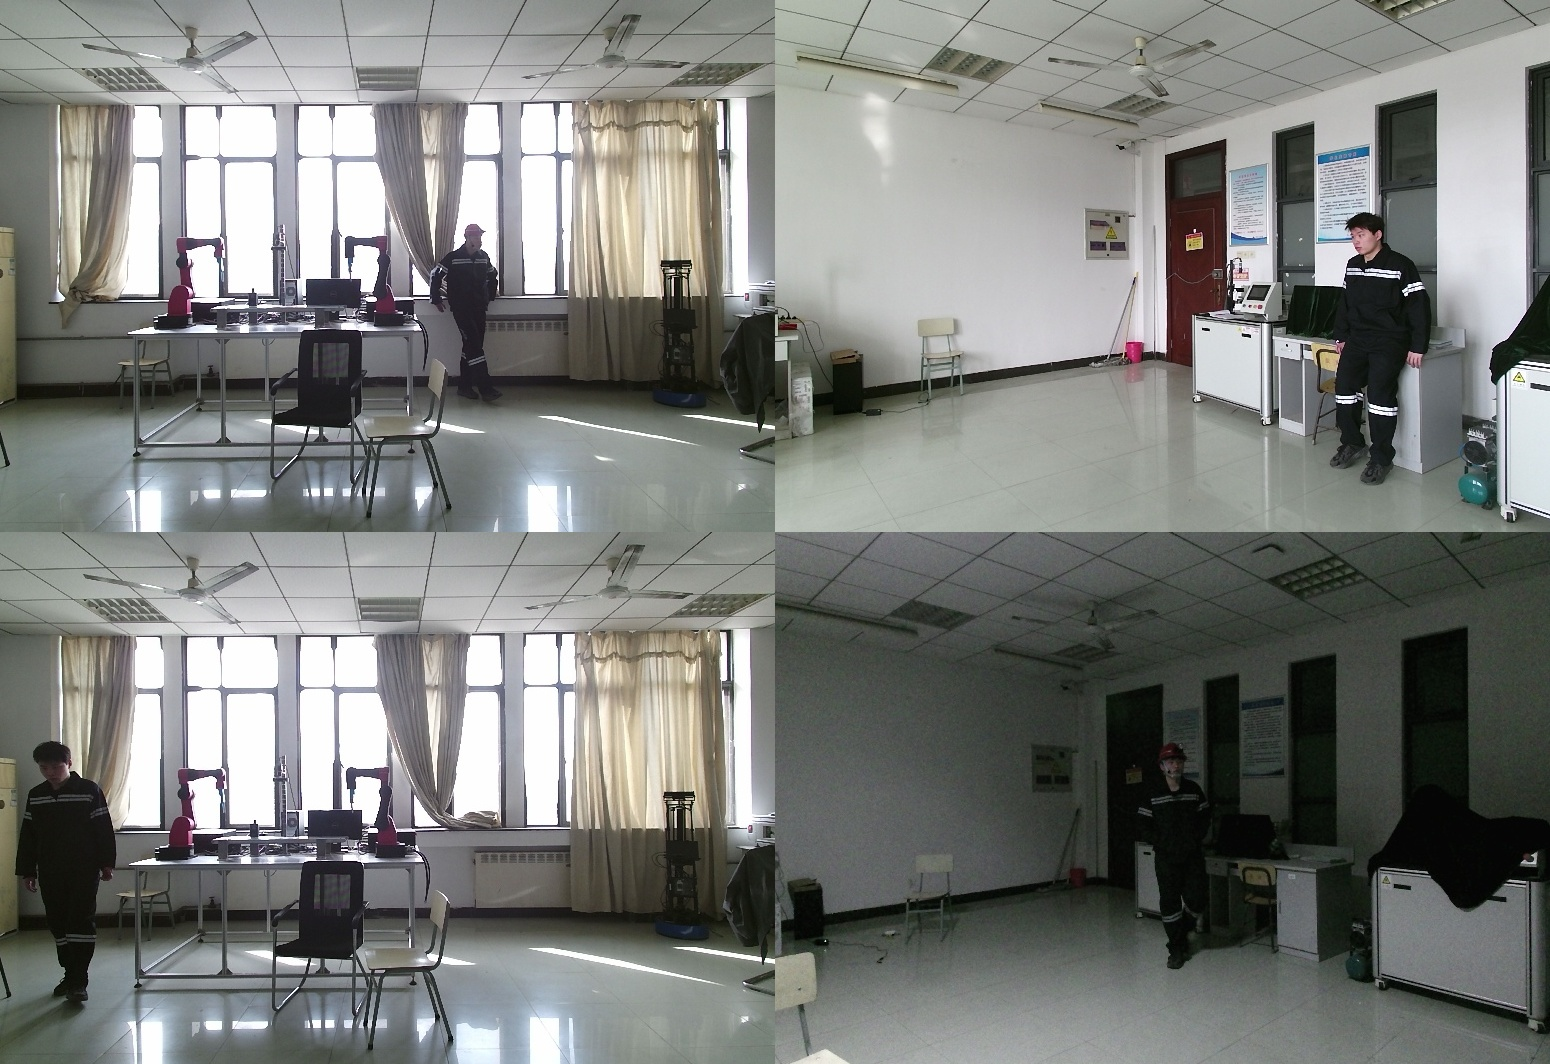person: (1335, 213, 1443, 479), (16, 741, 120, 997), (1136, 745, 1226, 969), (433, 226, 516, 406)
